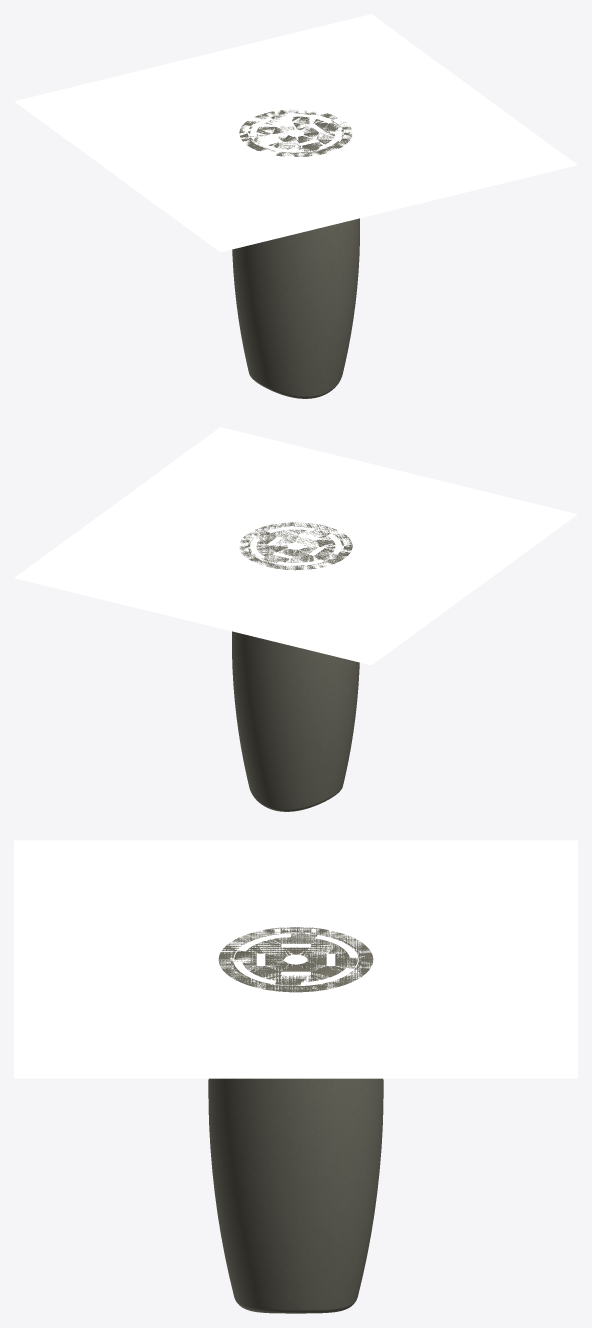
The model's file is loe.glb.
The picture shows the model from 3 angles, top to bottom: view 1: azimuth 30°, elevation 25°; view 2: azimuth 150°, elevation 25°; view 3: azimuth 270°, elevation 25°; orthographic projection. The views are drawn at different scales.
Visible parts, largest first — view 1: Holo; view 2: Holo; view 3: Holo.
Part boxes in pixels (box(x1,y1,x2,y2)): Holo: box(14, 14, 577, 398); Holo: box(14, 427, 577, 811); Holo: box(14, 840, 577, 1313).
Bounding box in the file's own units: 0.2917 × 0.1945 × 0.2917.
10 materials, 3 textured.
